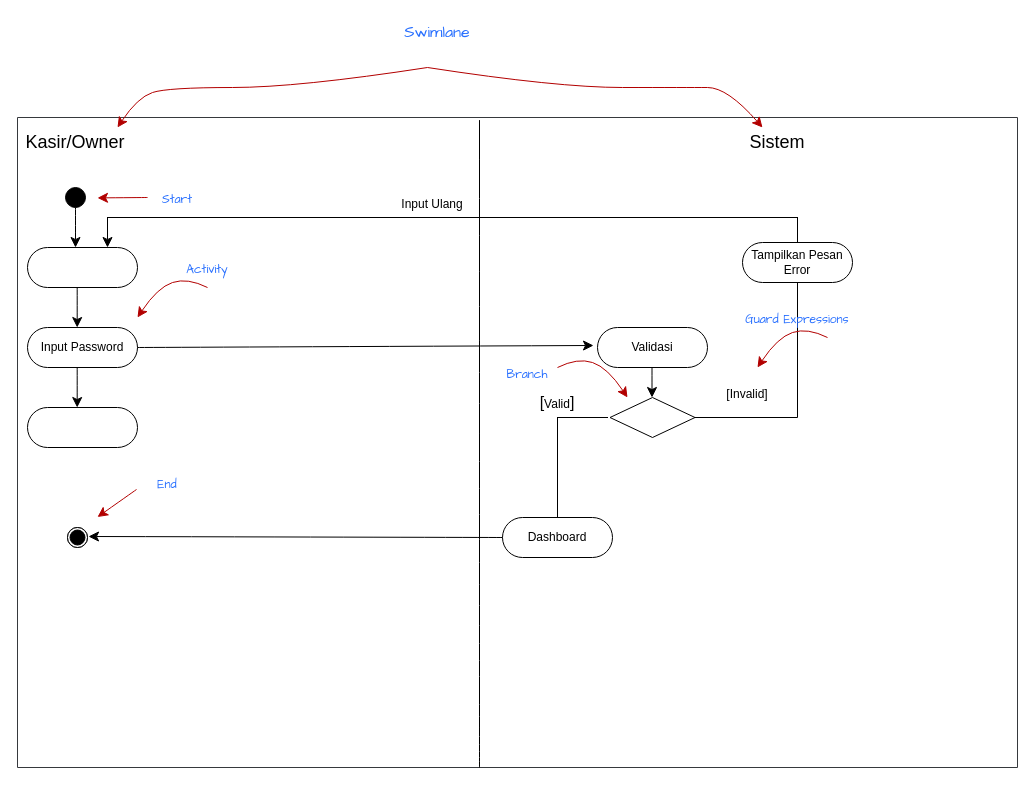
Some shapes in this 1035 by 786 pixel diagram are drawn without their labels. The shapes that lost their labels are listed below. From the top down, each one's centre as x and y in pixels, then its label:
At (82,267): "Input Username".
At (82,427): "Klik Login".
